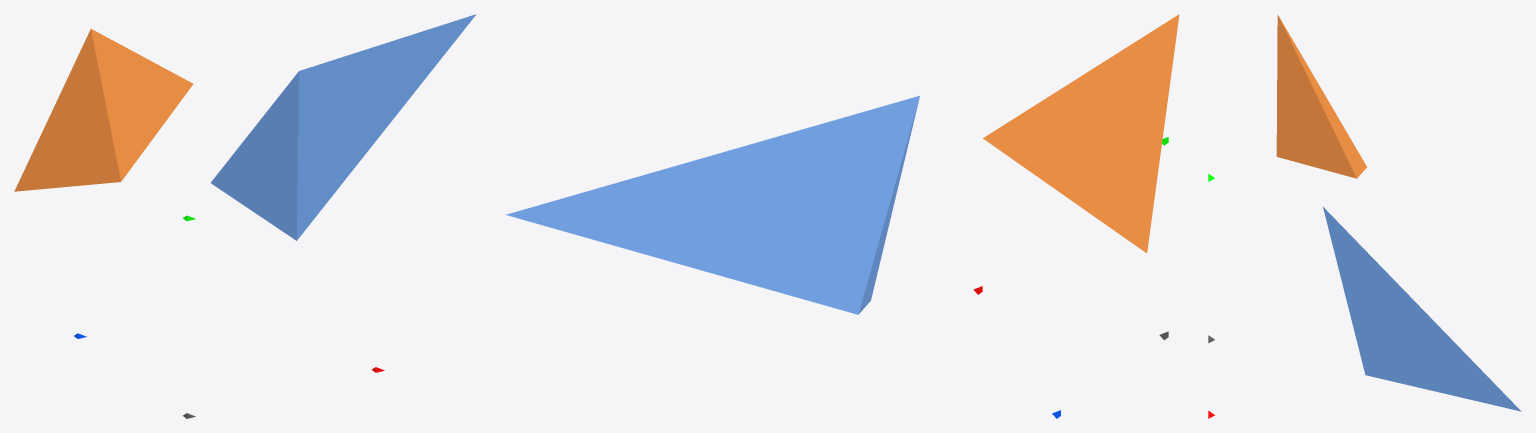
The model's file is content.glb.
The picture shows the model from 3 angles, left to right: view 1: azimuth 30°, elevation 25°; view 2: azimuth 150°, elevation 25°; view 3: azimuth 270°, elevation 25°; orthographic projection. The views are drawn at different scales.
Parts seen in each view (by area): view 1: asymmetric-body, offset-nose; view 2: asymmetric-body, offset-nose; view 3: asymmetric-body, offset-nose.
Boxes of the visible parts, bbox=[...] form: asymmetric-body: bbox=[211, 14, 476, 240]; offset-nose: bbox=[14, 29, 193, 191]; asymmetric-body: bbox=[506, 95, 919, 314]; offset-nose: bbox=[983, 14, 1179, 253]; asymmetric-body: bbox=[1323, 207, 1521, 411]; offset-nose: bbox=[1276, 14, 1366, 178].
Bounding box in the file's own units: 2.95 × 1.88 × 1.76.
